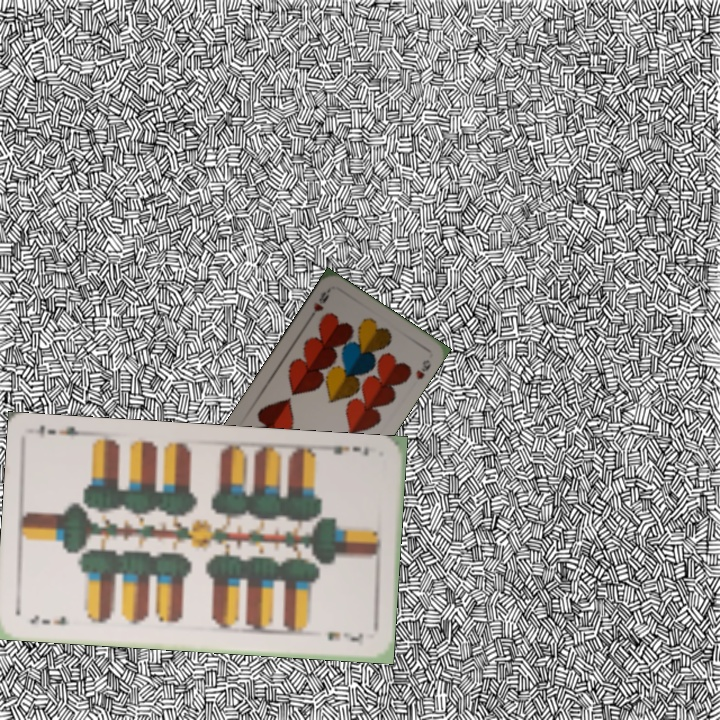E7: (321, 440, 371, 459), (26, 610, 69, 627)
H9: (305, 286, 332, 322)
